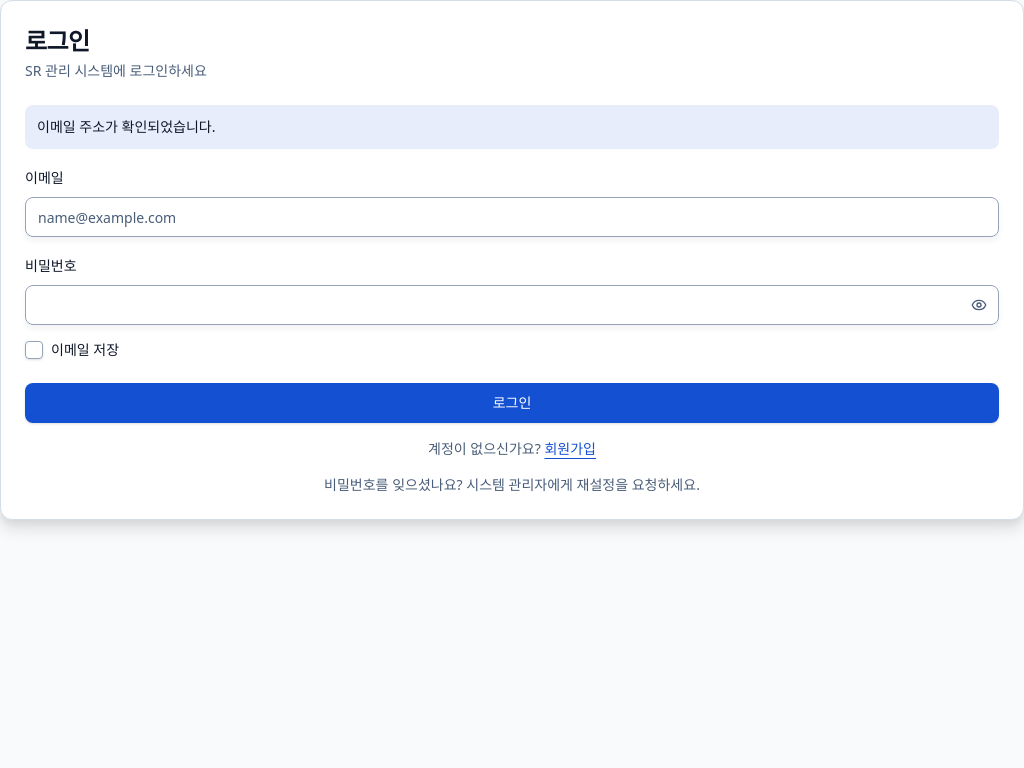
it: LoginForm — 이메일 인증 결과 안내 › 로그인 오류가 나면 인증 안내 대신 오류만 보인다
The image size is (1024, 768).
Type "hong@example.com" into the field labelled "이메일" at (512, 217), box [25,197,999,237]
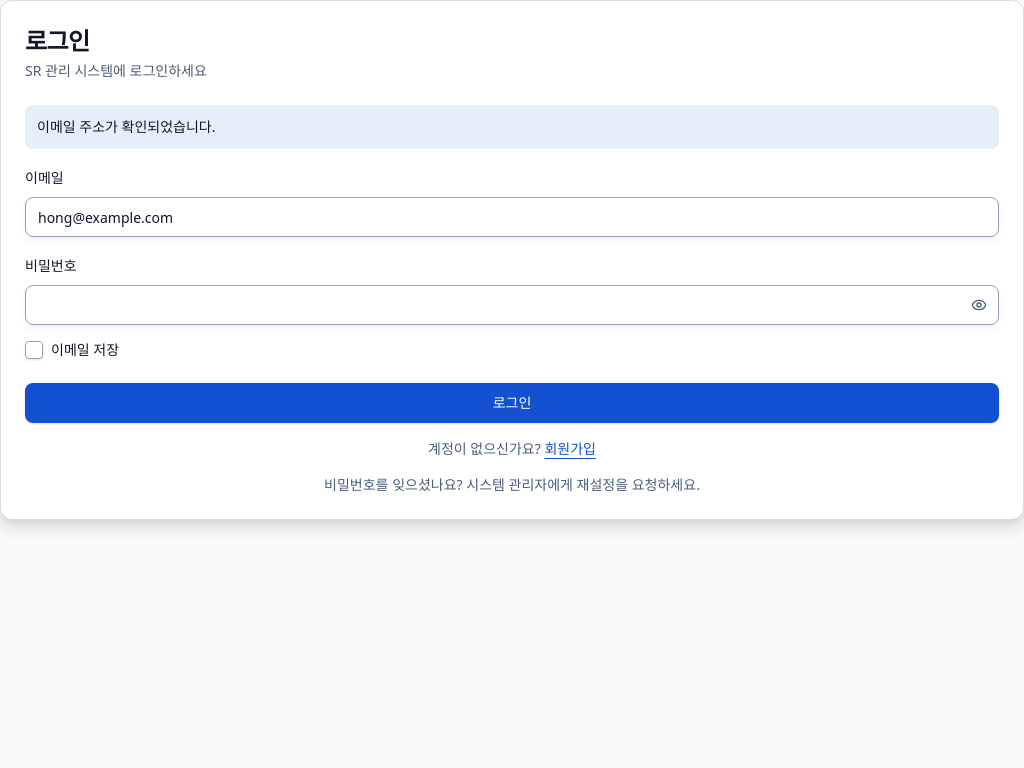
Type "pw1234!" into the password field labelled "비밀번호" at (512, 305), box [25,285,999,325]
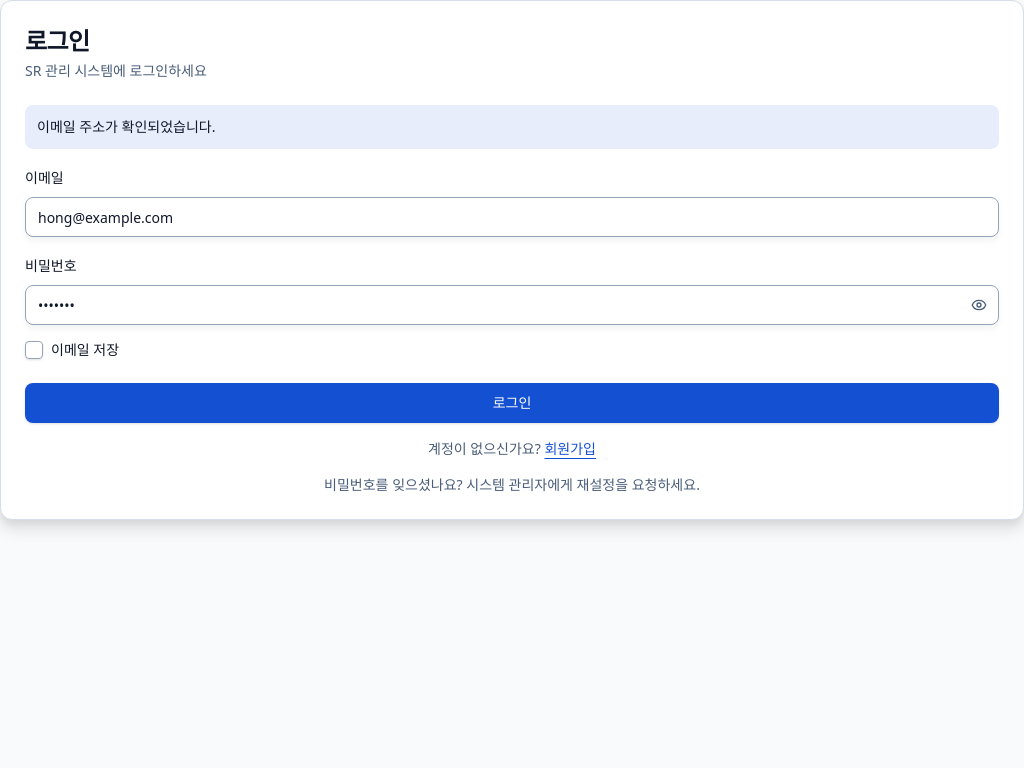
Click the button "로그인" at (512, 403), box [25,383,999,423]
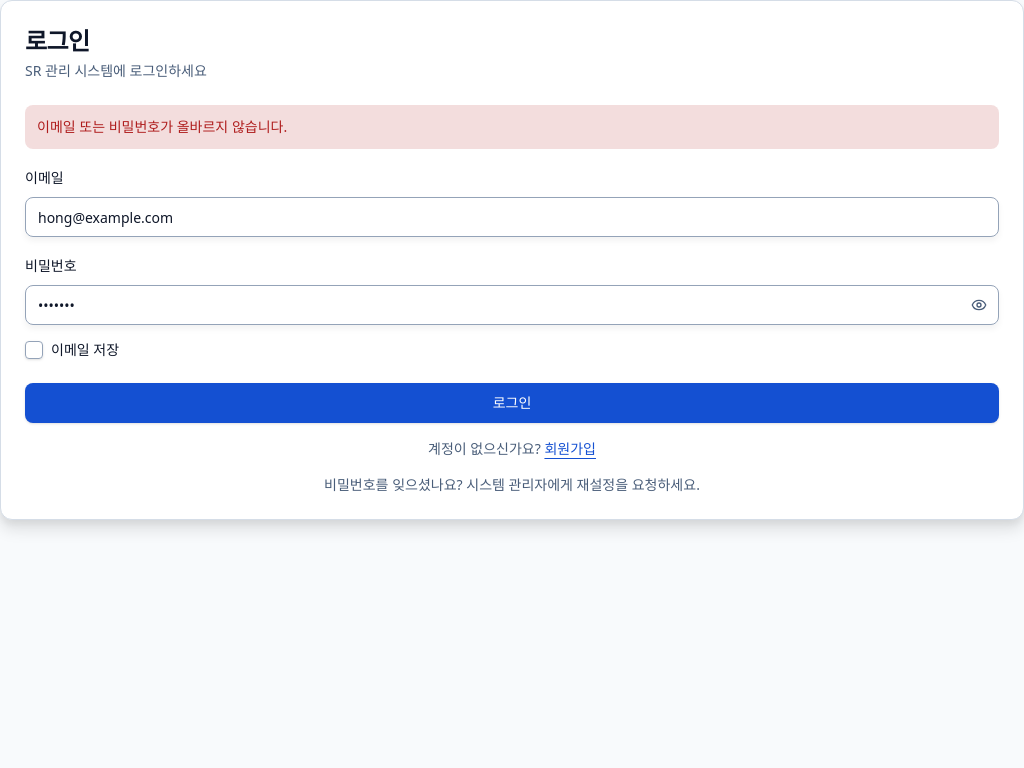
Expected: the message reads "이메일 또는 비밀번호가 올바르지 않습니다.", [37,117,287,136]
